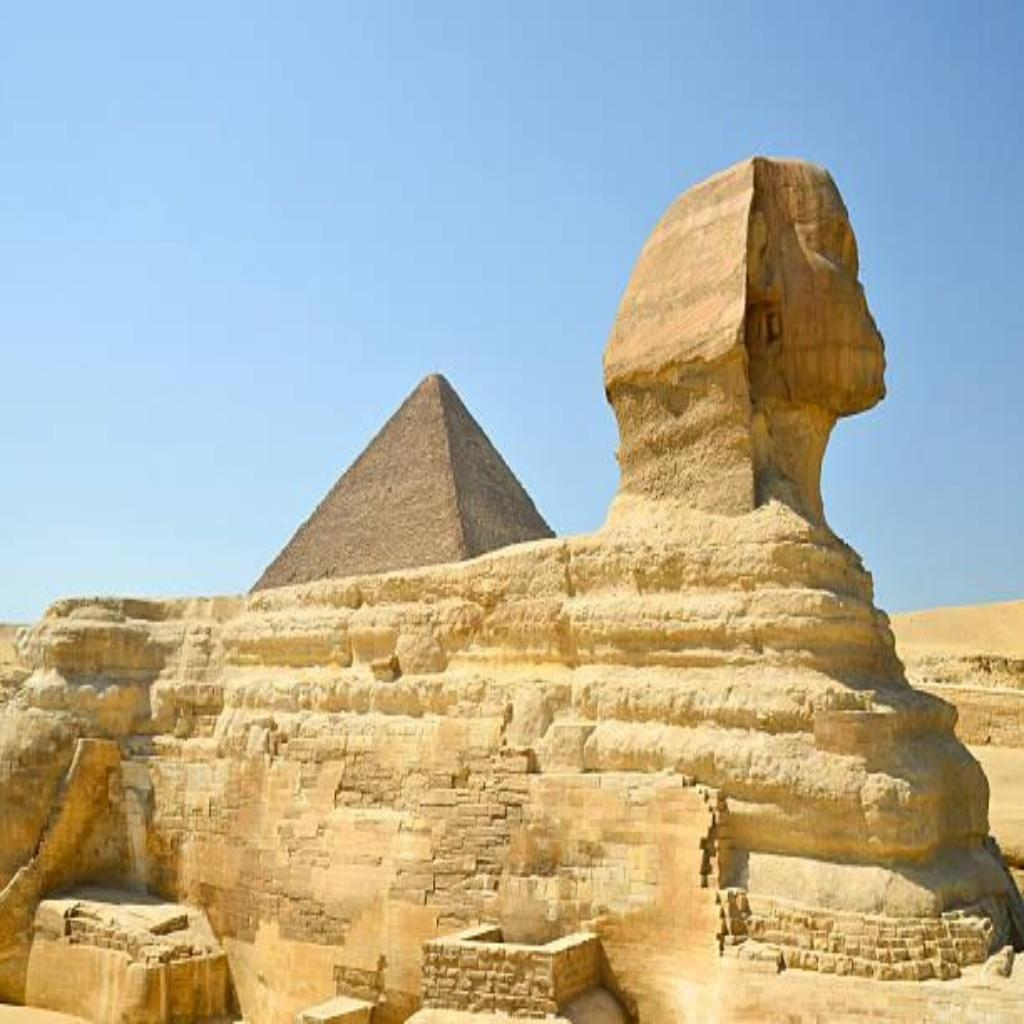Sphinx: (2, 152, 1020, 1019)
